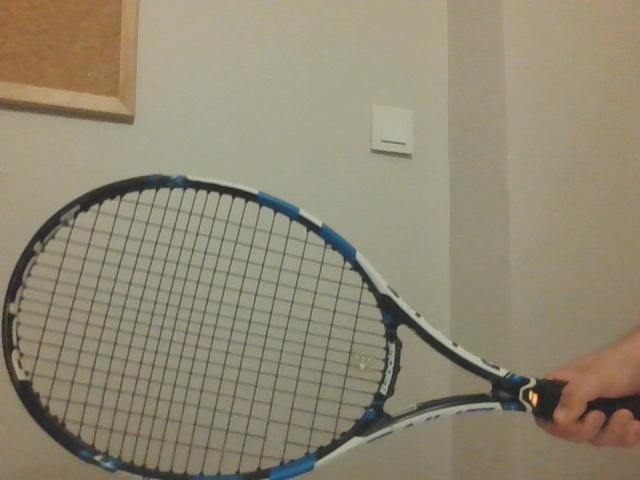Tennis-Racket: (0, 177, 639, 480)
